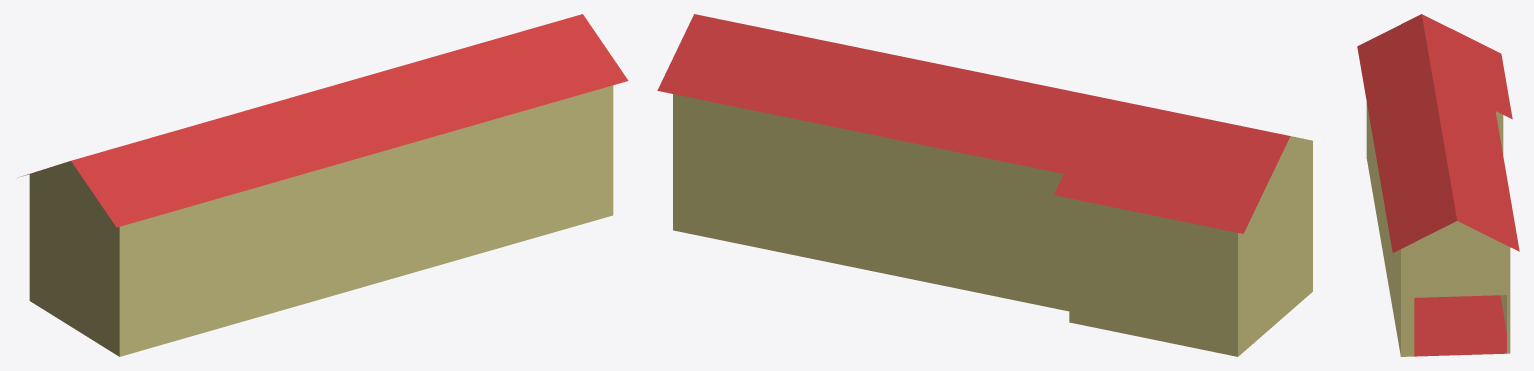
The picture shows the model from 3 angles, left to right: view 1: azimuth 30°, elevation 25°; view 2: azimuth 150°, elevation 25°; view 3: azimuth 270°, elevation 25°; orthographic projection. The views are drawn at different scales.
Bounding box in the file's own units: 42.81 × 13.92 × 13.05.
